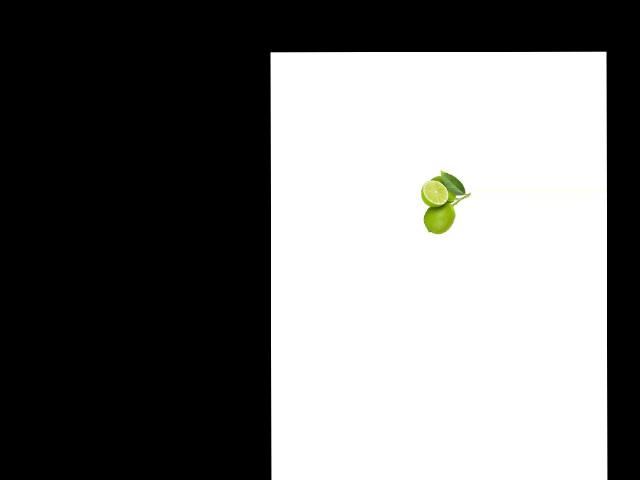lemon: (429, 174, 459, 202)
